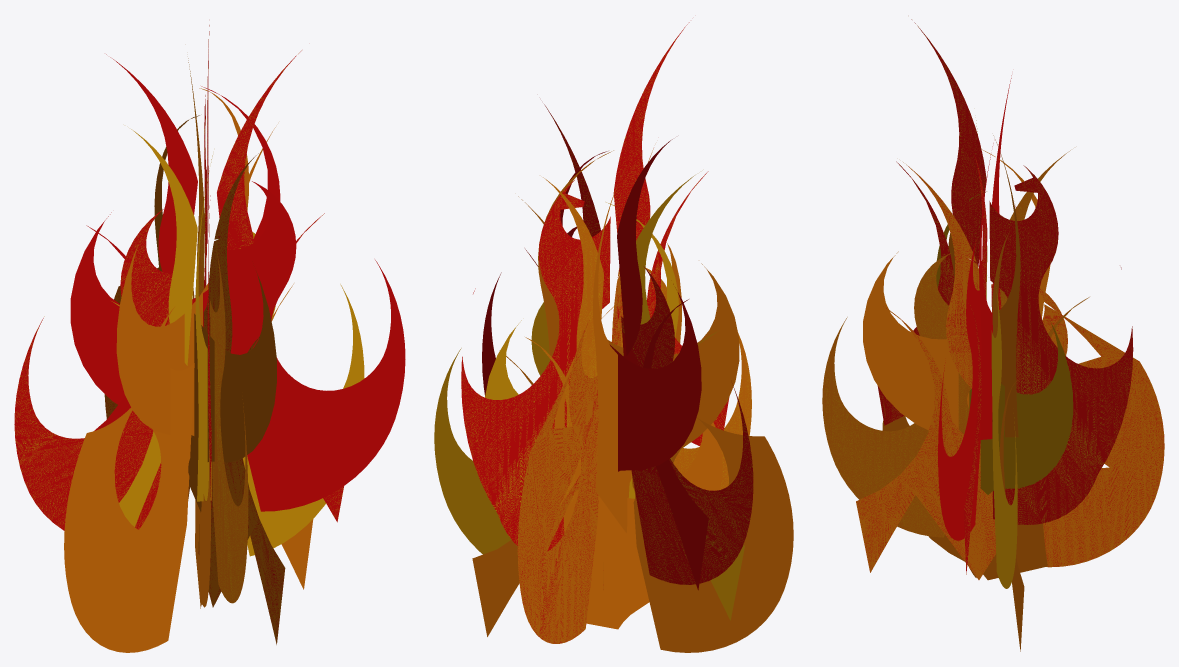
File: improved_model.dae
3 views of the same model, side by side, from view 1: azimuth 30°, elevation 25°; view 2: azimuth 150°, elevation 25°; view 3: azimuth 270°, elevation 25° (orthographic). The views are drawn at different scales.
Visible parts, largest first — view 1: Fire_004; view 2: Fire_004; view 3: Fire_004.
Part boxes in pixels (x1,y1,x2,y2): Fire_004: (14,25,405,652); Fire_004: (434,22,793,652); Fire_004: (822,19,1164,651).
Size of the model in its own units: 42.98 by 42.57 by 78.48.
